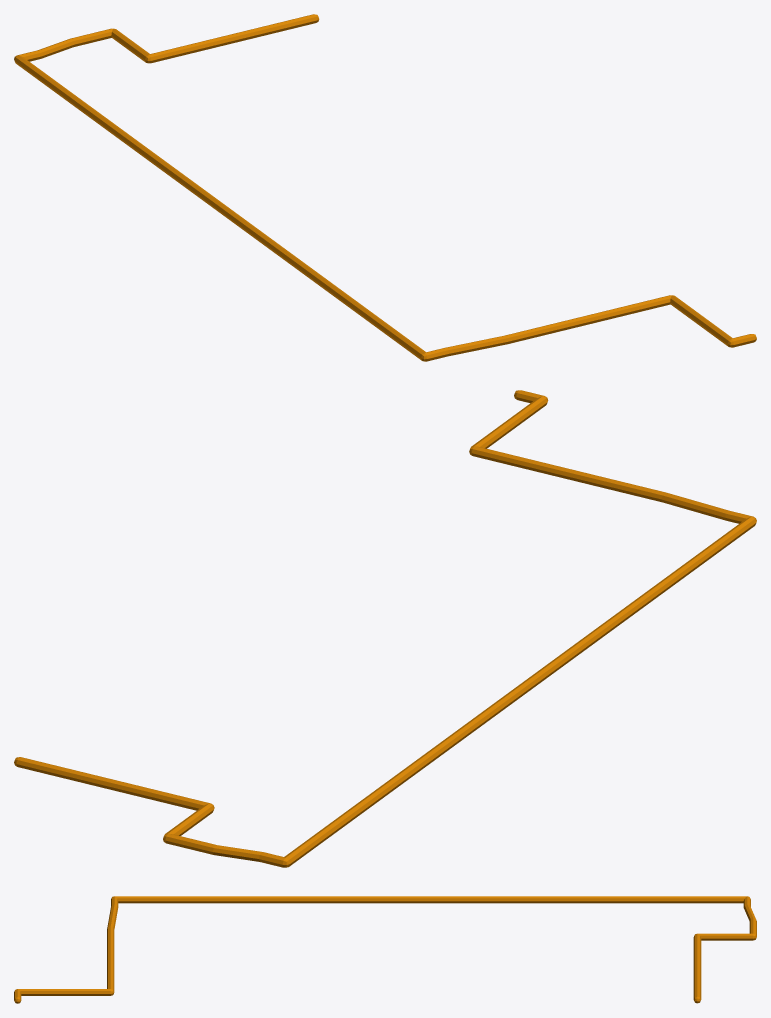
The picture shows the model from 3 angles, top to bottom: view 1: azimuth 30°, elevation 25°; view 2: azimuth 150°, elevation 25°; view 3: azimuth 270°, elevation 25°; orthographic projection. The views are drawn at different scales.
Size of the model in its own units: 660 by 20 by 1996.
